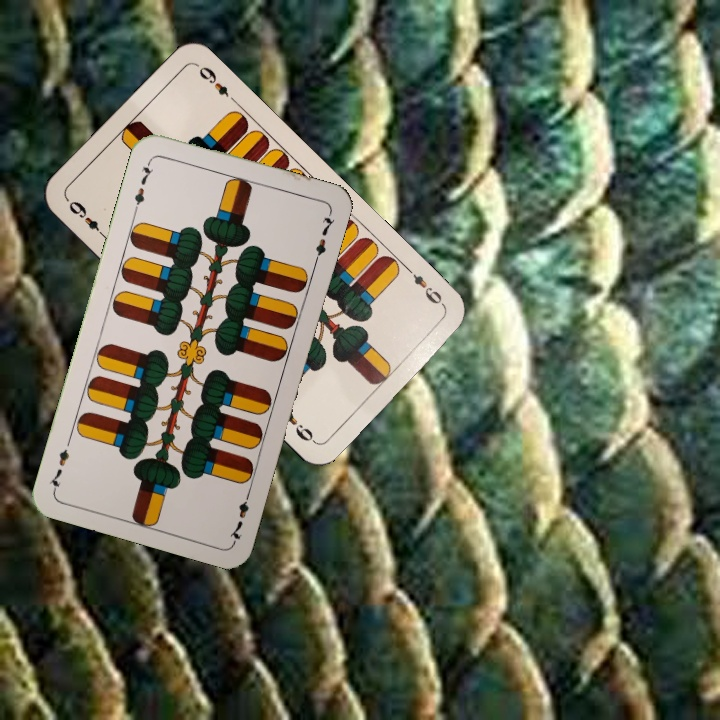E7: (225, 487, 254, 545), (130, 156, 157, 214)
E9: (402, 263, 448, 310), (64, 196, 109, 241)
